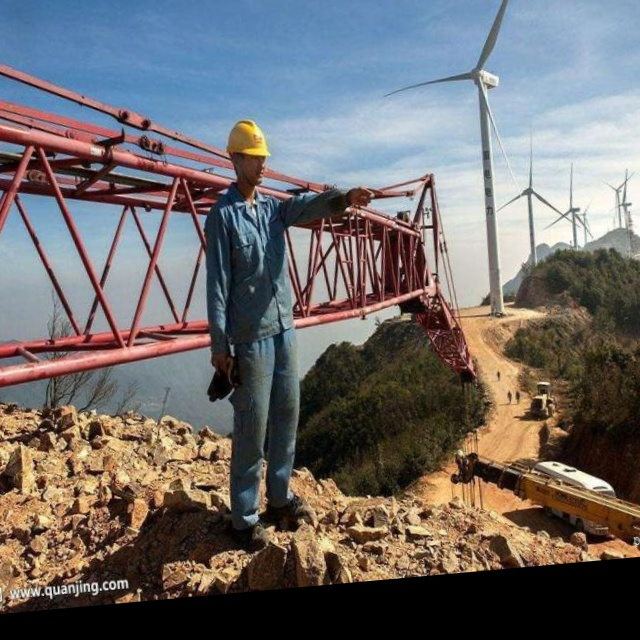Con_Casco: (226, 119, 272, 188)
